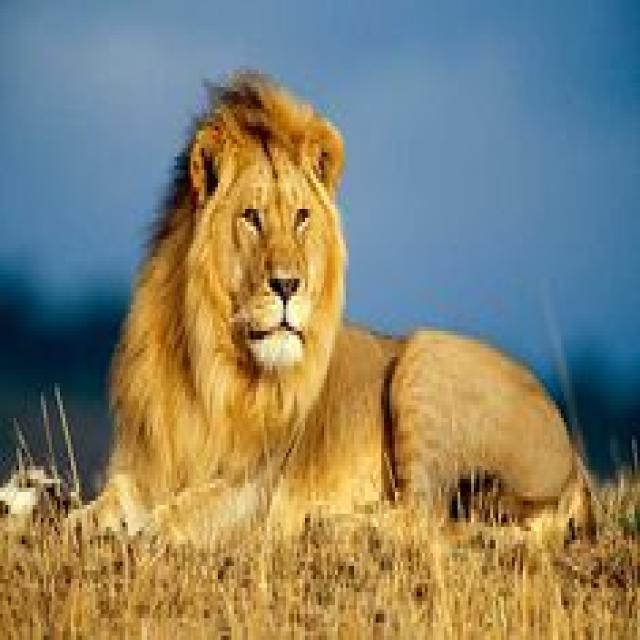lions: (0, 4, 640, 545)
